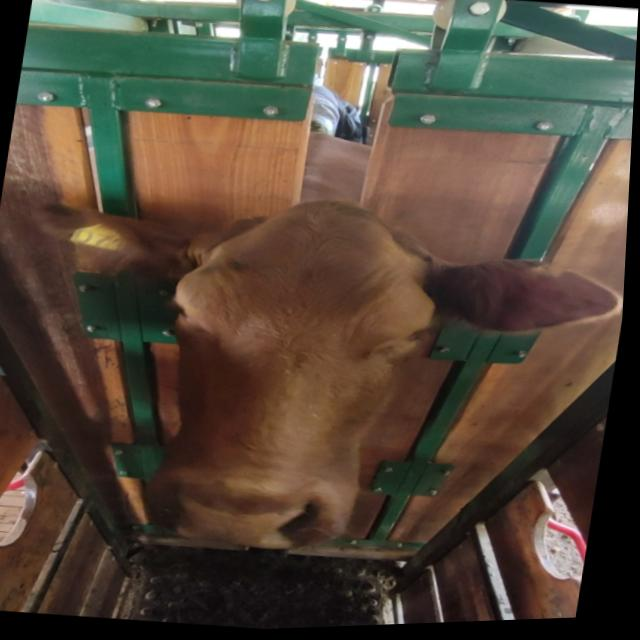cowFace: (139, 185, 454, 565)
